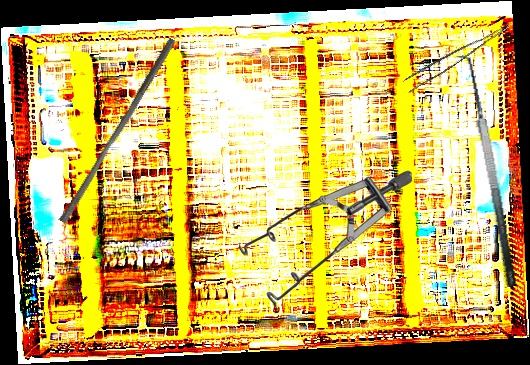Pusher: (58, 33, 177, 228)
Spatula Surgical: (450, 52, 518, 291)
Speculum: (239, 169, 412, 309)
Tissue Forceps: (401, 12, 510, 97)
